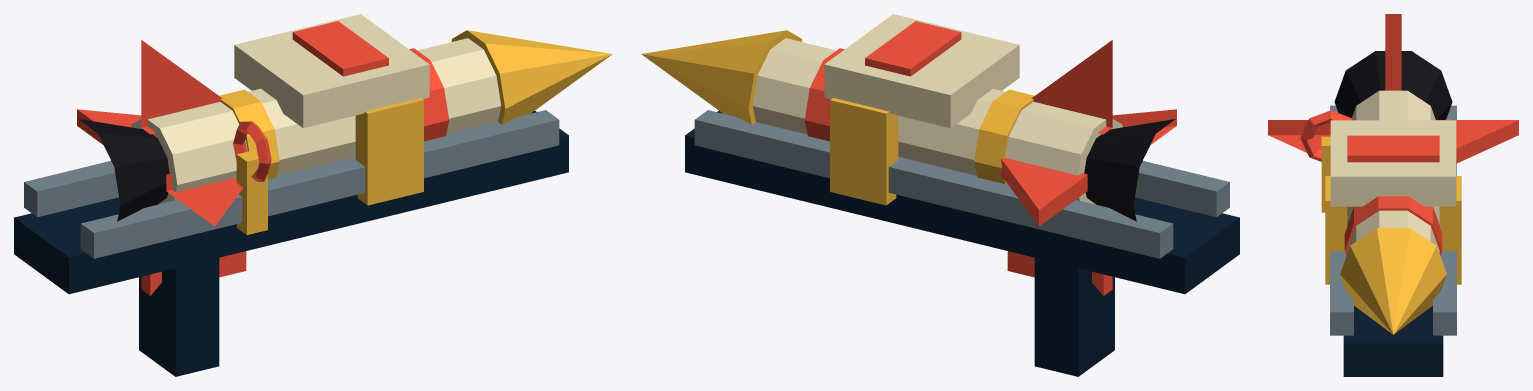
The model's file is civilian-nuclear-missile-v1-BOmbE_xP.glb.
The picture shows the model from 3 angles, left to right: view 1: azimuth 30°, elevation 25°; view 2: azimuth 150°, elevation 25°; view 3: azimuth 270°, elevation 25°; orthographic projection. The views are drawn at different scales.
Visible parts, largest first — view 1: NMV1_Rack, NMV1_MissileBody, NMV1_Rail_L, NMV1_SafetyCover, NMV1_ShoulderGrip, NMV1_Warhead, NMV1_Clamp_L, NMV1_ExhaustBell, NMV1_Fin_Top, NMV1_Rail_R, NMV1_CoverWarning, NMV1_ArmKey (+6 smaller); view 2: NMV1_Rack, NMV1_Rail_R, NMV1_MissileBody, NMV1_SafetyCover, NMV1_ShoulderGrip, NMV1_Warhead, NMV1_Clamp_R, NMV1_ExhaustBell, NMV1_Fin_Top, NMV1_Rail_L, NMV1_Fin_Right, NMV1_CoverWarning (+4 smaller); view 3: NMV1_SafetyCover, NMV1_Warhead, NMV1_Rack, NMV1_ExhaustBell, NMV1_MissileBody, NMV1_CoverWarning, NMV1_Fin_Right, NMV1_BodyBand_Red, NMV1_Rail_R, NMV1_Rail_L, NMV1_Clamp_L, NMV1_Clamp_R (+4 smaller).
Part boxes in pixels (box(x1,y1,x2,y2)): NMV1_Rack: box(14, 111, 568, 294); NMV1_MissileBody: box(131, 38, 501, 204); NMV1_Rail_L: box(80, 110, 559, 258); NMV1_SafetyCover: box(234, 14, 429, 128); NMV1_ShoulderGrip: box(139, 258, 219, 376); NMV1_Warhead: box(451, 30, 612, 124); NMV1_Clamp_L: box(355, 98, 423, 205); NMV1_ExhaustBell: box(78, 119, 169, 221); NMV1_Fin_Top: box(141, 40, 222, 134); NMV1_Rail_R: box(24, 161, 118, 217); NMV1_CoverWarning: box(292, 21, 388, 76); NMV1_ArmKey: box(236, 149, 267, 234); NMV1_Rack: box(685, 111, 1239, 294); NMV1_Rail_R: box(694, 110, 1173, 258); NMV1_MissileBody: box(752, 38, 1122, 204); NMV1_SafetyCover: box(824, 14, 1019, 128); NMV1_ShoulderGrip: box(1034, 258, 1114, 376); NMV1_Warhead: box(641, 30, 802, 124); NMV1_Clamp_R: box(830, 98, 898, 205); NMV1_ExhaustBell: box(1084, 119, 1175, 221); NMV1_Fin_Top: box(1031, 40, 1112, 134); NMV1_Rail_L: box(1135, 161, 1229, 217); NMV1_Fin_Right: box(1001, 158, 1087, 226); NMV1_CoverWarning: box(865, 21, 961, 76); NMV1_SafetyCover: box(1330, 120, 1456, 206); NMV1_Warhead: box(1340, 228, 1446, 334); NMV1_Rack: box(1343, 306, 1443, 376); NMV1_ExhaustBell: box(1334, 51, 1452, 119); NMV1_MissileBody: box(1347, 90, 1439, 252); NMV1_CoverWarning: box(1347, 135, 1439, 162); NMV1_Fin_Right: box(1436, 120, 1518, 163); NMV1_BodyBand_Red: box(1344, 196, 1442, 255); NMV1_Rail_R: box(1433, 105, 1456, 335); NMV1_Rail_L: box(1330, 105, 1353, 335); NMV1_Clamp_L: box(1325, 176, 1347, 284); NMV1_Clamp_R: box(1439, 176, 1461, 284).
Size of the model in its own units: 3.25 by 1.76 by 1.36.
